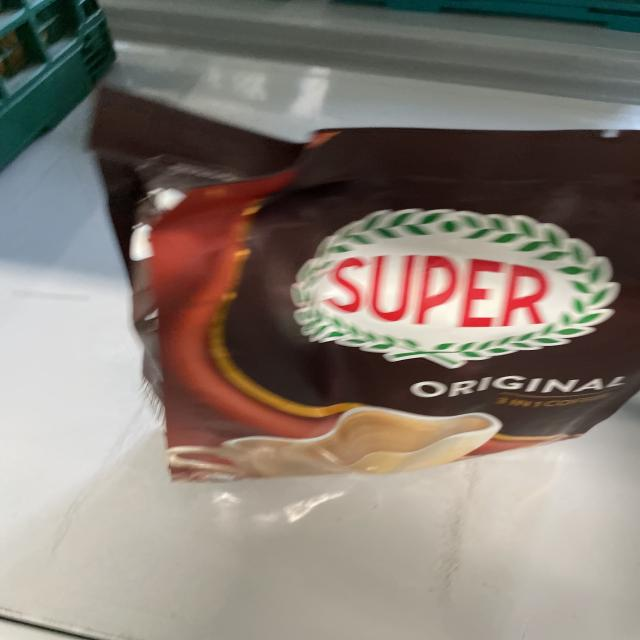object_name: (100, 114, 640, 483)
